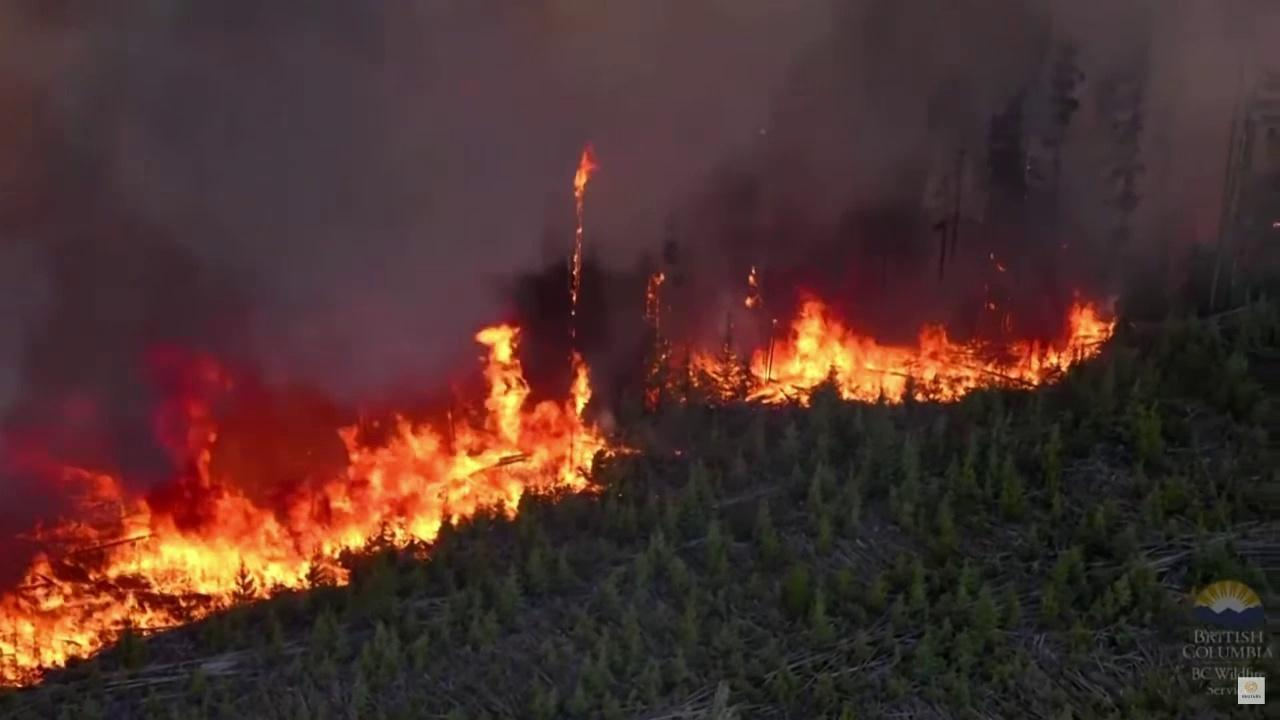fire: (0, 320, 645, 692), (640, 259, 1124, 415), (566, 144, 603, 323)
smoke: (0, 0, 1280, 598)
